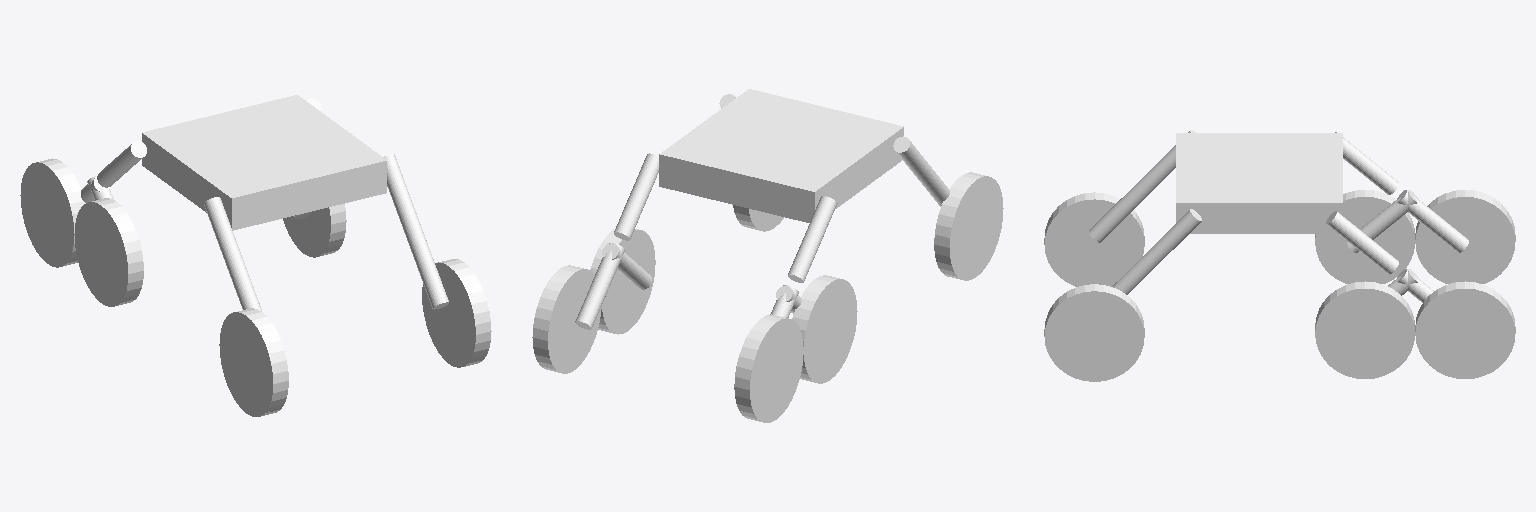
URDF robot description (drobo):
<?xml version="1.0" encoding="utf-8"?>
<robot xmlns:sensor="http://playerstage.sourceforge.net/gazebo/xmlschema/#sensor"
       xmlns:controller="http://playerstage.sourceforge.net/gazebo/xmlschema/#controller"
       xmlns:interface="http://playerstage.sourceforge.net/gazebo/xmlschema/#interface"
       xmlns:xacro="http://playerstage.sourceforge.net/gazebo/xmlschema/#xacro"
       name="drobo">
//base link-----------------------------------------------
  <link name="base_link">
    <inertial>
 <origin
        xyz="0 0 1"
        rpy="0 0 0" />
      <mass
        value="4.8489" />
      <inertia
        ixx="0.14684"
        ixy="0.000360999999999999"
        ixz="0.014859"
        iyy="0.24756"
        iyz="4.36779999999948E-05"
        izz="0.33302" />
    </inertial>
<visual>
      <origin
        xyz="0 0 1"
        rpy="1.5707963267949 0 0" />
      <geometry>
        <box size= "1 0.2 1"/>
      </geometry>
      <material
        name="blue">
        <color
          rgba="1 1 255 1" />
      </material>
    </visual>
<collision>
      <origin
        xyz="0 0 1"
        rpy="1.5707963267949 0 0" />
      <geometry>
        <box size= "1 0.2 1"/>
      </geometry>
</collision>
 <gazebo reference="base_link">
    <material>Gazebo/Blue</material>
  </gazebo>
  </link>

//front pipe left----------------------------------------------------------------
<link
    name="front_left_pipe">
    <inertial>
      <origin
        xyz="0 1 1"
        rpy="0 0 0" />
      <mass
        value="4.8489" />
      <inertia
        ixx="0.14684"
        ixy="0.000360999999999999"
        ixz="0.014859"
        iyy="0.24756"
        iyz="4.36779999999948E-05"
        izz="0.33302" />
    </inertial>
 <visual>
      <origin
        xyz="0.56 0.6 0.85"
        rpy="-2.3 0 0" />

      <geometry>
        <cylinder length="0.5" radius="0.05"/>
      </geometry>
      <material
        name="white">
        <color
          rgba="1 1 1 1" />
      </material>
    </visual>
<collision>
      <origin
        xyz="0.56 0.6 0.85"
        rpy="-2.3 0 0" />
      <geometry>
        <cylinder length="0.5" radius="0.05"/>
      </geometry>
</collision>
  </link>

<link
    name="front_left_pipe1">
    <inertial>
      <origin
        xyz="0 1 1"
        rpy="0 0 0" />
      <mass
        value="4.8489" />
      <inertia
        ixx="0.14684"
        ixy="0.000360999999999999"
        ixz="0.014859"
        iyy="0.24756"
        iyz="4.36779999999948E-05"
        izz="0.33302" />
    </inertial>
 <visual>
      <origin
        xyz="0.56 1 0.45"
        rpy="-2.3 0 0" />

      <geometry>
        <cylinder length="0.5" radius="0.05"/>
      </geometry>
      <material
        name="white">
        <color
          rgba="1 1 1 1" />
      </material>
    </visual>
<collision>
      <origin
        xyz="0.56 1 0.45"
        rpy="-2.3 0 0" />

      <geometry>
        <cylinder length="0.5" radius="0.05"/>
      </geometry>
</collision>
  </link>

<link
    name="front_left_pipe2">
    <inertial>
      <origin
        xyz="0 1 1"
        rpy="0 0 0" />
      <mass
        value="4.8489" />
      <inertia
        ixx="0.14684"
        ixy="0.000360999999999999"
        ixz="0.014859"
        iyy="0.24756"
        iyz="4.36779999999948E-05"
        izz="0.33302" />
    </inertial>
 <visual>
      <origin
        xyz="0.56 0.7 0.45"
        rpy="2.3 0 0" />

      <geometry>
        <cylinder length="0.5" radius="0.05"/>
      </geometry>
      <material
        name="white">
        <color
          rgba="1 1 1 1" />
      </material>
    </visual>
<collision>
      <origin
        xyz="0.56 0.7 0.45"
        rpy="2.3 0 0" />

      <geometry>
        <cylinder length="0.5" radius="0.05"/>
      </geometry>
</collision>
  </link>

<link
    name="front_left_wheel1">
    <inertial>
      <origin
        xyz="0 0.1 1"
        rpy="0 1 0" />
      <mass
        value="4.8489" />
      <inertia
        ixx="0.14684"
        ixy="0.000360999999999999"
        ixz="0.014859"
        iyy="0.24756"
        iyz="4.36779999999948E-05"
        izz="0.33302" />
    </inertial>
<visual>
      <origin
        xyz="0.65 1.2 0.3"
        rpy="1.57 0 1.57" />

      <geometry>
       <cylinder length="0.1" radius="0.3"/>
      </geometry>
      <material
        name="Grey">
        <color
          rgba="128 128 128 1" />
      </material>
    </visual>
<collision>
      <origin
        xyz="0.65 1.2 0.3"
        rpy="1.57 0 1.57" />

      <geometry>
       <cylinder length="0.1" radius="0.3"/>
      </geometry>
</collision>
  </link>

<gazebo reference="front_left_pipe1_to_front_left_wheel1">
         <mu1 value="200.0"/>
         <mu2 value="100.0"/>
         <kp value="10000000.0" />
         <kd value="1.0" />
         <material>Gazebo/Grey</material>
</gazebo>

<link
    name="front_left_wheel2">
    <inertial>
      <origin xyz="0 0.1 1" rpy="0 1 0" />
      <mass
        value="4.8489" />
      <inertia
        ixx="0.14684"
        ixy="0.000360999999999999"
        ixz="0.014859"
        iyy="0.24756"
        iyz="4.36779999999948E-05"
        izz="0.33302" />
    </inertial>
 <visual>
        
      <origin xyz="0.65 0.6 0.3" rpy="1.57 0 1.57" />

      <geometry>
       <cylinder length="0.1" radius="0.3"/>
      </geometry>
      <material
        name="white">
        <color
          rgba="1 1 1 1" />
      </material>
    </visual>
<collision>
      <origin
        xyz="0.65 0.6 0.3"
        rpy="1.57 0 1.57" />

      <geometry>
       <cylinder length="0.1" radius="0.3"/>
      </geometry>
</collision>
  </link>

<gazebo reference="front_left_pipe2_to_front_left_wheel2">
         <mu1 value="200.0"/>
         <mu2 value="100.0"/>
         <kp value="10000000.0" />
         <kd value="1.0" />
         <material>Gazebo/Grey</material>
</gazebo>

<joint name="base_to_front_left_pipe" type="fixed">
<parent link="base_link"/>
<child link="front_left_pipe" />
<origin rpy="0 0 0" xyz="0.005 0.02 0.02"/>
<axis xyz="1 0 0" />
</joint>

<joint name="front_left_pipe_to_front_left_pipe1" type="fixed">
<parent link="front_left_pipe"/>
<child link="front_left_pipe1" />
<origin rpy="0 0 0" xyz="0.005 0.02 0.02"/>
<axis xyz="1 0 0" />
</joint>

<joint name="front_left_pipe_to_front_left_pipe2" type="fixed">
<parent link="front_left_pipe"/>
<child link="front_left_pipe2" />
<origin rpy="0 0 0" xyz="0.005 0.02 0.02"/>
<axis xyz="1 0 0" />
</joint>

<joint name="front_left_pipe1_to_front_left_wheel1" type="continuous">
<parent link="front_left_pipe1"/>
<child link="front_left_wheel1" />
<limit effort="100" velocity="100"/>
 <joint_properties damping="0.0" friction="0.0"/>
<dynamics damping="50" friction="1"/>
<origin rpy="0 0 0" xyz="0.01 -0.005 0"/>
<axis xyz="1 0 0" />
</joint>

 <transmission name="front_left_wheel1_trans">
    <type>transmission_interface/SimpleTransmission</type>
    <actuator name="$front_left_wheel1_motor">
      <mechanicalReduction>1</mechanicalReduction>
    </actuator>
    <joint name="front_left_pipe1_to_front_left_wheel1">
      <hardwareInterface>hardware_interface/VelocityJointInterface</hardwareInterface>
    </joint>
  </transmission>

<joint name="front_left_pipe2_to_front_left_wheel2" type="continuous">
<parent link="front_left_pipe2"/>
<child link="front_left_wheel2" />
<limit effort="100" velocity="100"/>
 <joint_properties damping="0.0" friction="0.0"/>
<dynamics damping="50" friction="1"/>
<origin rpy="0 0 0" xyz="0.01 -0.005 0"/>
<axis xyz="1 0 0" />
</joint>

 <transmission name="front_left_wheel2_trans">
    <type>transmission_interface/SimpleTransmission</type>
    <actuator name="$front_left_wheel2_motor">
      <mechanicalReduction>1</mechanicalReduction>
    </actuator>
    <joint name="front_left_pipe2_to_front_left_wheel2">
      <hardwareInterface>hardware_interface/VelocityJointInterface</hardwareInterface>
    </joint>
  </transmission>

//back pipe right--------------------------------------------------------------------
<link
    name="back_right_pipe">
    <inertial>
      <origin
        xyz="0 0.1 1"
        rpy="0 1 0" />
      <mass
        value="4.8489" />
      <inertia
        ixx="0.14684"
        ixy="0.000360999999999999"
        ixz="0.014859"
        iyy="0.24756"
        iyz="4.36779999999948E-05"
        izz="0.33302" />
    </inertial>
<visual>
      <origin
        xyz="-0.56 -0.7 0.7"
        rpy="2.4 0 0" />

      <geometry>
        <cylinder length="0.9" radius="0.05"/>
      </geometry>
      <material
        name="white">
        <color
          rgba="1 1 1 1" />
      </material>
    </visual>
<collision>
      <origin
        xyz="-0.56 -0.7 0.7"
        rpy="2.4 0 0" />
      <geometry>
        <cylinder length="0.9" radius="0.05"/>
      </geometry>
</collision>
  </link>

<link
    name="back_right_wheel">
    <inertial>
      <origin
        xyz="0 0.1 1"
        rpy="0 1 0" />
      <mass
        value="4.8489" />
      <inertia
        ixx="0.14684"
        ixy="0.000360999999999999"
        ixz="0.014859"
        iyy="0.24756"
        iyz="4.36779999999948E-05"
        izz="0.33302" />
    </inertial>
 <visual>
      <origin
        xyz="-0.65 -1 0.3"
        rpy="1.57 0 1.57" />
      <geometry>
       <cylinder length="0.1" radius="0.3"/>
      </geometry>
      <material
        name="white">
        <color
          rgba="1 1 1 1" />
      </material>
    </visual>
<collision>
      <origin
        xyz="-0.65 -1 0.3"
        rpy="1.57 0 1.57" />

      <geometry>
       <cylinder length="0.1" radius="0.3"/>
      </geometry>
</collision>
  </link>

<gazebo reference="back_right_pipe_to_back_right_wheel">
         <mu1 value="200.0"/>
         <mu2 value="100.0"/>
         <kp value="10000000.0" />
         <kd value="1.0" />
         <material>Gazebo/Grey</material>
</gazebo>

<joint name="base_to_back_right_pipe" type="fixed">
<parent link="base_link"/>
<child link="back_right_pipe" />
<origin rpy="0 0 0" xyz="0.005 0.02 0.02"/>
<axis xyz="1 1 1" />
</joint>

<joint name="back_right_pipe_to_back_right_wheel" type="continuous">
<parent link="back_right_pipe"/>
<child link="back_right_wheel" />
<limit effort="100" velocity="100"/>
 <joint_properties damping="0.0" friction="0.0"/>
<dynamics damping="50" friction="1"/>
<origin rpy="0 0 0" xyz="0.01 -0.005 0"/>
<axis xyz="1 0 0" />
</joint>

 <transmission name="back_right_wheel_trans">
    <type>transmission_interface/SimpleTransmission</type>
    <actuator name="$back_right_wheel_motor">
      <mechanicalReduction>1</mechanicalReduction>
    </actuator>
    <joint name="back_right_pipe_to_back_right_wheel">
      <hardwareInterface>hardware_interface/VelocityJointInterface</hardwareInterface>
    </joint>
  </transmission>

//front pipe right----------------------------------------------------------------
<link
    name="front_right_pipe">
    <inertial>
      <origin
        xyz="0 0.1 1"
        rpy="0 1 0" />
      <mass
        value="4.8489" />
      <inertia
        ixx="0.14684"
        ixy="0.000360999999999999"
        ixz="0.014859"
        iyy="0.24756"
        iyz="4.36779999999948E-05"
        izz="0.33302" />
    </inertial>
<visual>
      <origin
        xyz="-0.56 0.6 0.85"
        rpy="-2.3 0 0" />
      <geometry>
        <cylinder length="0.5" radius="0.05"/>
      </geometry>
      <material
        name="white">
        <color
          rgba="1 1 1 1" />
      </material>
    </visual>
<collision>
      <origin
        xyz="-0.56 0.6 0.85"
        rpy="-2.3 0 0" />

      <geometry>
        <cylinder length="0.5" radius="0.05"/>
      </geometry>
</collision>
  </link>

<link
    name="front_right_pipe1">
    <inertial>
      <origin
        xyz="0 1 1"
        rpy="0 0 0" />
      <mass
        value="4.8489" />
      <inertia
        ixx="0.14684"
        ixy="0.000360999999999999"
        ixz="0.014859"
        iyy="0.24756"
        iyz="4.36779999999948E-05"
        izz="0.33302" />
    </inertial>
<visual>
      <origin
        xyz="-0.56 1 0.45"
        rpy="-2.3 0 0" />
      <geometry>
        <cylinder length="0.5" radius="0.05"/>
      </geometry>
      <material
        name="white">
        <color
          rgba="1 1 1 1" />
      </material>
    </visual>
<collision>
      <origin
        xyz="-0.56 1 0.45"
        rpy="-2.3 0 0" />
      <geometry>
        <cylinder length="0.5" radius="0.05"/>
      </geometry>
</collision>
  </link>



<link
    name="front_right_pipe2">
    <inertial>
      <origin
        xyz="0 1 1"
        rpy="0 0 0" />
      <mass
        value="4.8489" />
      <inertia
        ixx="0.14684"
        ixy="0.000360999999999999"
        ixz="0.014859"
        iyy="0.24756"
        iyz="4.36779999999948E-05"
        izz="0.33302" />
    </inertial>
<visual>
      <origin
        xyz="-0.56 0.7 0.45"
        rpy="2.3 0 0" />
      <geometry>
        <cylinder length="0.5" radius="0.05"/>
      </geometry>
      <material
        name="white">
        <color
          rgba="1 1 1 1" />
      </material>
    </visual>
<collision>
      <origin
        xyz="-0.56 0.7 0.45"
        rpy="2.3 0 0" />
      <geometry>
        <cylinder length="0.5" radius="0.05"/>
      </geometry>
</collision>
  </link>

<link
    name="front_right_wheel1">
    <inertial>
      <origin
        xyz="0 0.1 1"
        rpy="0 1 0" />
      <mass
        value="4.8489" />
      <inertia
        ixx="0.14684"
        ixy="0.000360999999999999"
        ixz="0.014859"
        iyy="0.24756"
        iyz="4.36779999999948E-05"
        izz="0.33302" />
    </inertial>
<visual>
      <origin
        xyz="-0.65 1.2 0.3"
        rpy="1.57 0 1.57" />

      <geometry>
       <cylinder length="0.1" radius="0.3"/>
      </geometry>
      <material
        name="white">
        <color
          rgba="1 1 1 1" />
      </material>
    </visual>
<collision>
      <origin
        xyz="-0.65 1.2 0.3"
        rpy="1.57 0 1.57" />
      <geometry>
       <cylinder length="0.1" radius="0.3"/>
      </geometry>
</collision>
  </link>

<gazebo reference="front_right_pipe1_to_front_right_wheel1">
         <mu1 value="200.0"/>
         <mu2 value="100.0"/>
         <kp value="10000000.0" />
         <kd value="1.0" />
         <material>Gazebo/Grey</material>
</gazebo>

<link
    name="front_right_wheel2">
    <inertial>
      <origin
        xyz="0 0.1 1"
        rpy="0 1 0" />
      <mass
        value="4.8489" />
      <inertia
        ixx="0.14684"
        ixy="0.000360999999999999"
        ixz="0.014859"
        iyy="0.24756"
        iyz="4.36779999999948E-05"
        izz="0.33302" />
    </inertial>
<visual>
      <origin
        xyz="-0.65 0.6 0.3"
        rpy="1.57 0 1.57" />

      <geometry>
       <cylinder length="0.1" radius="0.3"/>
      </geometry>
      <material
        name="white">
        <color
          rgba="1 1 1 1" />
      </material>
    </visual>
<collision>
      <origin
        xyz="-0.65 0.6 0.3"
        rpy="1.57 0 1.57" />
      <geometry>
       <cylinder length="0.1" radius="0.3"/>
      </geometry>
</collision>
  </link>

<gazebo reference="front_right_pipe2_to_front_right_wheel2">
         <mu1 value="200.0"/>
         <mu2 value="100.0"/>
         <kp value="10000000.0" />
         <kd value="1.0" />
         <material>Gazebo/Grey</material>
</gazebo>



<joint name="base_to_front_right_pipe" type="fixed">
<parent link="base_link"/>
<child link="front_right_pipe" />
<origin rpy="0 0 0" xyz="0.005 0.02 0.02"/>
<axis xyz="1 1 1" />
</joint>

<joint name="front_right_pipe_to_front_right_pipe1" type="fixed">
<parent link="front_right_pipe"/>
<child link="front_right_pipe1" />
<origin rpy="0 0 0" xyz="0.005 0.02 0.02"/>
<axis xyz="1 10 1" />
</joint>

<joint name="front_right_pipe_to_front_right_pipe2" type="fixed">
<parent link="front_right_pipe"/>
<child link="front_right_pipe2" />
<origin rpy="0 0 0" xyz="0.005 0.02 0.02"/>
<axis xyz="1 10 1" />
</joint>

<joint name="front_right_pipe1_to_front_right_wheel1" type="continuous">
<parent link="front_right_pipe1"/>
<child link="front_right_wheel1" />
<limit effort="100" velocity="100"/>
 <joint_properties damping="0.0" friction="0.0"/>
<dynamics damping="50" friction="1"/>
<origin rpy="0 0 0" xyz="0.01 -0.005 0"/>
<axis xyz="1 0 0" />
</joint>

 <transmission name="front_right_wheel1_trans">
    <type>transmission_interface/SimpleTransmission</type>
    <actuator name="$front_right_wheel1_motor">
      <mechanicalReduction>1</mechanicalReduction>
    </actuator>
    <joint name="front_right_pipe1_to_front_right_wheel1">
      <hardwareInterface>hardware_interface/VelocityJointInterface</hardwareInterface>
    </joint>
  </transmission>

<joint name="front_right_pipe2_to_front_right_wheel2" type="continuous">
<parent link="front_right_pipe2"/>
<child link="front_right_wheel2" />
<limit effort="100" velocity="100"/>
 <joint_properties damping="0.0" friction="0.0"/>
<dynamics damping="50" friction="1"/>
<origin rpy="0 0 0" xyz="0.01 -0.005 0"/>
<axis xyz="1 0 0" />
</joint>

 <transmission name="front_right_wheel2_trans">
    <type>transmission_interface/SimpleTransmission</type>
    <actuator name="$front_right_wheel2_motor">
      <mechanicalReduction>1</mechanicalReduction>
    </actuator>
    <joint name="front_right_pipe2_to_front_right_wheel2">
      <hardwareInterface>hardware_interface/VelocityJointInterface</hardwareInterface>
    </joint>
  </transmission>
//back pipe left-------------------------------------------------------------
<link
    name="back_left_pipe">
    <inertial>
      <origin
        xyz="0 0.1 1"
        rpy="0 1 0" />
      <mass
        value="4.8489" />
      <inertia
        ixx="0.14684"
        ixy="0.000360999999999999"
        ixz="0.014859"
        iyy="0.24756"
        iyz="4.36779999999948E-05"
        izz="0.33302" />
    </inertial>
 <visual>
      <origin
        xyz="0.56 -0.7 0.7"
        rpy="2.4 0 0" />

      <geometry>
        <cylinder length="0.9" radius="0.05"/>
      </geometry>
       <material
        name="white">
        <color
          rgba="1 1 1 1" />
      </material>
    </visual>
<collision>
      <origin
        xyz="0.56 -0.7 0.7"
        rpy="2.4 0 0" />

      <geometry>
        <cylinder length="0.9" radius="0.05"/>
      </geometry>
</collision>
  </link>

<link
    name="back_left_wheel">
    <inertial>
      <origin
        xyz="0 0.1 1"
        rpy="0 1 0" />
      <mass
        value="4.8489" />
      <inertia
        ixx="0.14684"
        ixy="0.000360999999999999"
        ixz="0.014859"
        iyy="0.24756"
        iyz="4.36779999999948E-05"
        izz="0.33302" />
    </inertial>
 <visual>
      <origin
        xyz="0.65 -1 0.3"
        rpy="1.57 0 1.57" />

      <geometry>
        <cylinder length="0.1" radius="0.3"/>
      </geometry>
       <material
        name="white">
        <color
          rgba="1 1 1 1" />
      </material>
    </visual>
<collision>
      <origin
        xyz="0.65 -1 0.3"
        rpy="1.57 0 1.57" />

      <geometry>
        <cylinder length="0.1" radius="0.3"/>
      </geometry>
</collision>
  </link>

<gazebo reference="back_left_pipe_to_back_left_wheel">
         <mu1 value="200.0"/>
         <mu2 value="100.0"/>
         <kp value="10000000.0" />
         <kd value="1.0" />
         <material>Gazebo/Grey</material>
</gazebo>

<joint name="base_to_back_left_pipe" type="fixed">
<parent link="base_link"/>
<child link="back_left_pipe" />
<origin rpy="0 0 0" xyz="0.005 0.02 0.02"/>
<axis xyz="0 1 1" />
</joint>

<joint name="back_left_pipe_to_back_left_wheel" type="continuous">
<parent link="back_left_pipe"/>
<child link="back_left_wheel" />
<limit effort="100" velocity="100"/>
 <joint_properties damping="0.0" friction="0.0"/>
<dynamics damping="50" friction="1"/>
<origin rpy="0 0 0" xyz="0.01 -0.005 0"/>
<axis xyz="1 0 0" />
</joint>

 <transmission name="back_left_wheel_trans">
    <type>transmission_interface/SimpleTransmission</type>
    <joint name="back_left_pipe_to_back_left_wheel">
      <hardwareInterface>hardware_interface/VelocityJointInterface</hardwareInterface>
    </joint>
    <actuator name="back_left_wheel_motor">
      <hardwareInterface>hardware_interface/VelocityJointInterface</hardwareInterface>
      <mechanicalReduction>1</mechanicalReduction>
    </actuator>
  </transmission>
-----------------------------------------------------------------------------

<gazebo>
 <static>false</static>
    <plugin name="gazebo_ros_control" filename="libgazebo_ros_control.so">
        <robotNamespace>/drobo</robotNamespace>
	<robotSimType>gazebo_ros_control/DefaultRobotHWSim</robotSimType>
        <legacyModeNS>true</legacyModeNS>
     </plugin>
    </gazebo>

</robot>


--- Render facts (derived) ---
3 views of the same robot in one strip: view 1: azimuth 30°, elevation 25°; view 2: azimuth 150°, elevation 25°; view 3: azimuth 270°, elevation 25° (orthographic).
Model drobo with 15 links and 14 joints (6 continuous, 8 fixed), rooted at base_link, posed all joints at 0.
Links seen in each view (by area): view 1: base_link, front_right_wheel2, back_right_wheel, front_right_wheel1, back_left_wheel, back_left_pipe, front_left_wheel2, back_right_pipe, front_right_pipe; view 2: base_link, front_right_wheel1, back_right_wheel, front_right_wheel2, front_left_wheel1, front_left_wheel2, front_right_pipe, front_left_pipe, front_left_pipe1, back_right_pipe, front_left_pipe2, back_left_wheel; view 3: base_link, back_left_wheel, front_left_wheel1, front_left_wheel2, front_right_wheel1, back_right_wheel, front_right_wheel2, back_right_pipe, back_left_pipe, front_left_pipe, front_right_pipe1, front_right_pipe (+1 smaller).
Boxes of the visible links, x1,y1,x2,y2 form: base_link: (142, 95, 386, 230); front_right_wheel2: (74, 198, 143, 306); back_right_wheel: (219, 308, 288, 416); front_right_wheel1: (20, 158, 85, 267); back_left_wheel: (422, 259, 491, 367); back_left_pipe: (383, 154, 448, 309); front_left_wheel2: (283, 204, 346, 257); back_right_pipe: (204, 197, 261, 311); front_right_pipe: (97, 141, 146, 187); base_link: (659, 89, 903, 222); front_right_wheel1: (734, 314, 803, 422); back_right_wheel: (934, 172, 1003, 280); front_right_wheel2: (792, 275, 857, 383); front_left_wheel1: (532, 265, 601, 373); front_left_wheel2: (590, 228, 655, 334); front_right_pipe: (788, 196, 837, 282); front_left_pipe: (614, 153, 658, 240); front_left_pipe1: (575, 243, 624, 329); back_right_pipe: (893, 136, 949, 206); front_left_pipe2: (602, 243, 651, 289); back_left_wheel: (733, 205, 783, 231); base_link: (1176, 133, 1342, 233); back_left_wheel: (1044, 284, 1144, 381); front_left_wheel1: (1415, 281, 1515, 378); front_left_wheel2: (1315, 281, 1414, 378); front_right_wheel1: (1415, 190, 1515, 283); back_right_wheel: (1044, 192, 1144, 286); front_right_wheel2: (1315, 190, 1414, 283); back_right_pipe: (1089, 130, 1195, 242); back_left_pipe: (1112, 209, 1201, 294); front_left_pipe: (1326, 211, 1398, 274); front_right_pipe1: (1397, 190, 1468, 252); front_right_pipe: (1335, 132, 1398, 194).
Bounding box of the posed robot: 1.41 × 2.82 × 1.08 m (x, y, z).
Geometry: primitives only (box / cylinder / sphere), no mesh files.